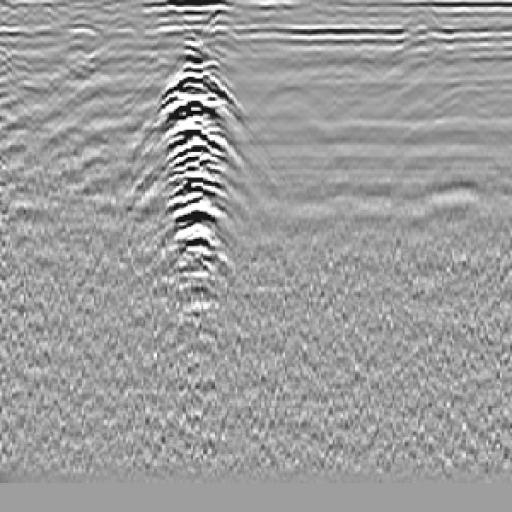metalic: (155, 48, 237, 307)
